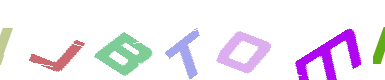1: (18, 0, 98, 80)
B: (145, 0, 225, 80)
F: (304, 0, 384, 80)
J: (67, 0, 147, 80)
M: (290, 0, 370, 80)
O: (204, 0, 284, 80)
T: (149, 0, 229, 80)
